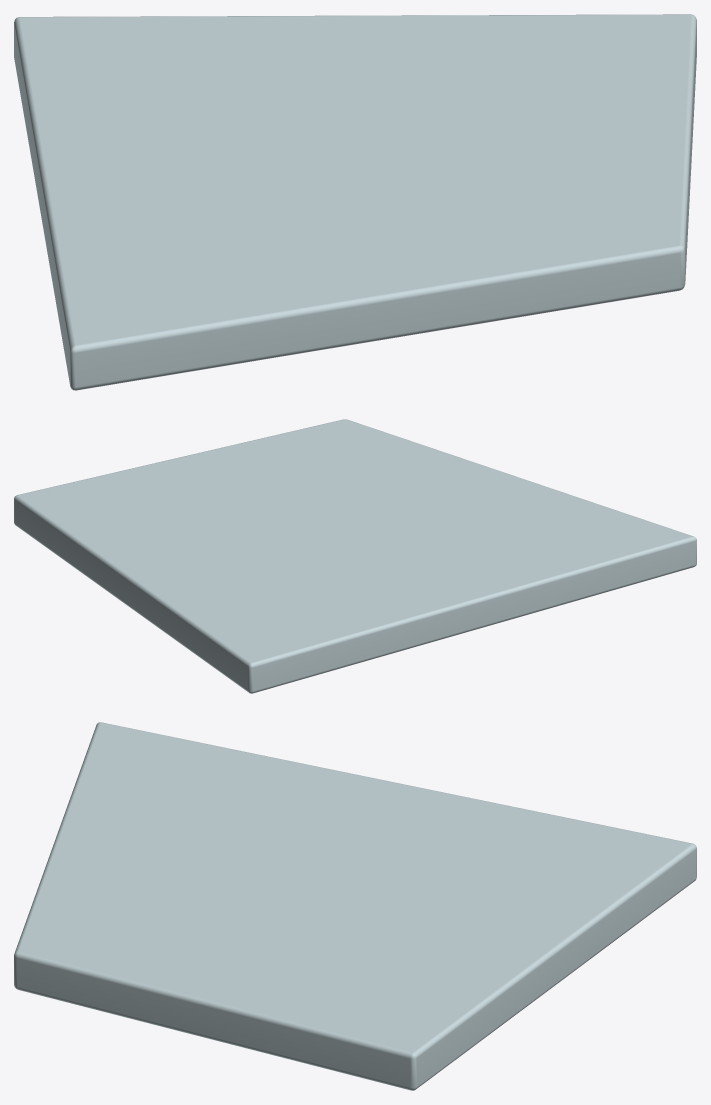
File: ZH_PROP_LAB_GlassShard_04.fbx
3 renders of one model, top to bottom at view 1: azimuth 30°, elevation 25°; view 2: azimuth 150°, elevation 25°; view 3: azimuth 270°, elevation 25°, orthographic. The views are drawn at different scales.
Parts seen in each view (by area): view 1: Shard | thick edges.005; view 2: Shard | thick edges.005; view 3: Shard | thick edges.005.
Part boxes in pixels (box(x1,y1,x2,y2)): Shard | thick edges.005: box(14, 14, 696, 390); Shard | thick edges.005: box(14, 419, 696, 693); Shard | thick edges.005: box(14, 722, 696, 1090).
Bounding box in the file's own units: 0.0473 × 0.0025 × 0.0408.
